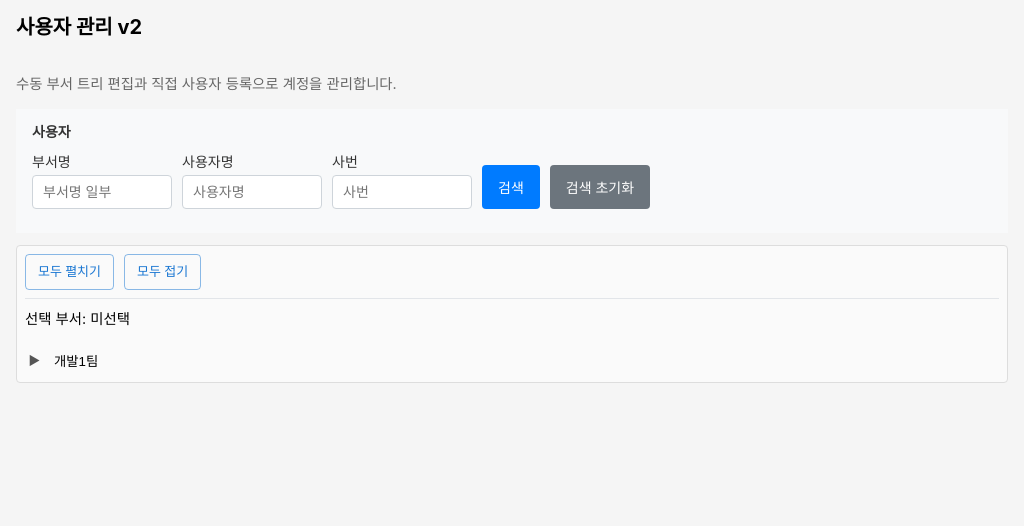
it: UserManagement › Table columns › table includes "사용자명" column and shows employee number fallback text when missing
Expected: the button "개발1팀" is shown, [47,348,105,374]
Click the button named "펼치기" at (34, 361), box [25,351,43,371]
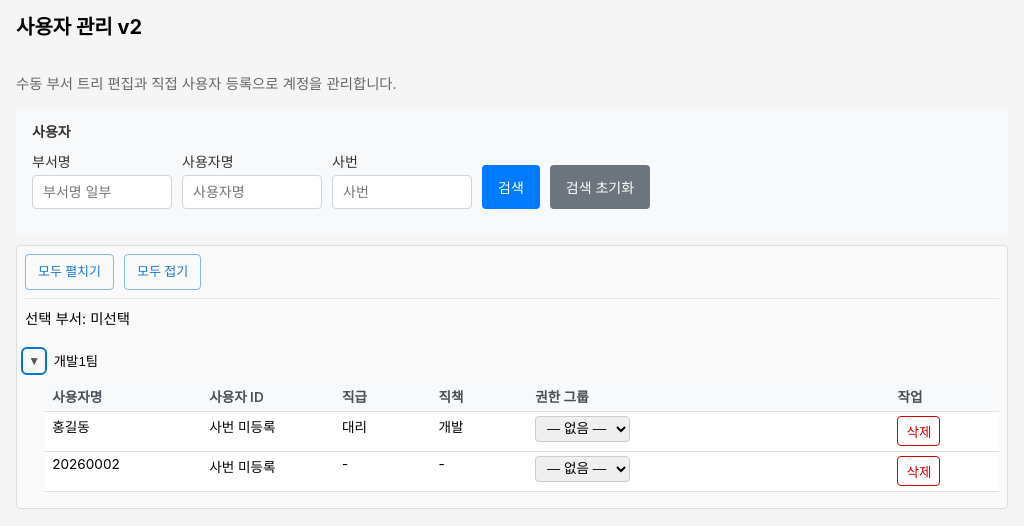
Expected: the column heading "사용자명" is shown, [45,382,202,411]
Expected: the column heading "사용자 ID" is shown, [202,382,335,411]
